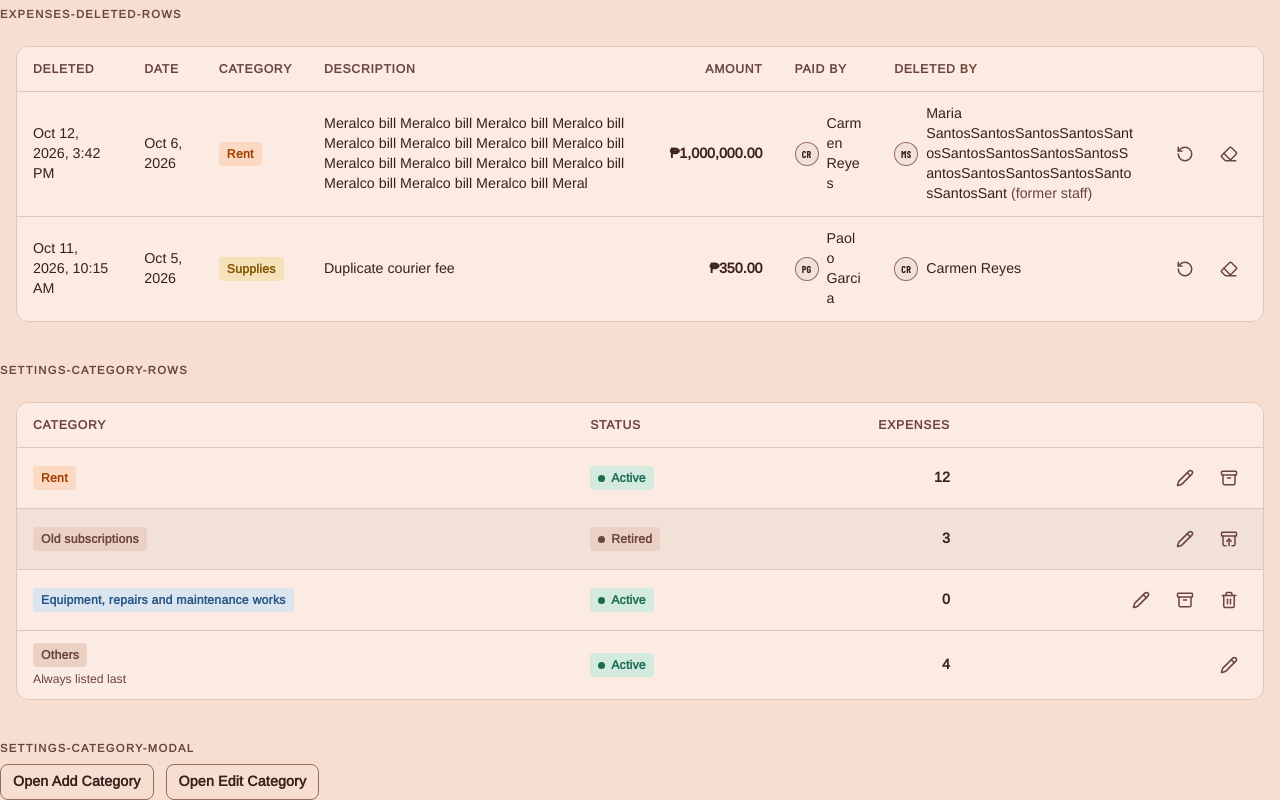
Test case: Phase6Demos: the expense modal and the delete dialogs are live › opens S2 in add mode with six color radios whose badges follow the typed name, and in edit mode with a 40-character name
(page scrolled)
Click the button "Open Add Category" at (77, 782), box [0,764,154,799]
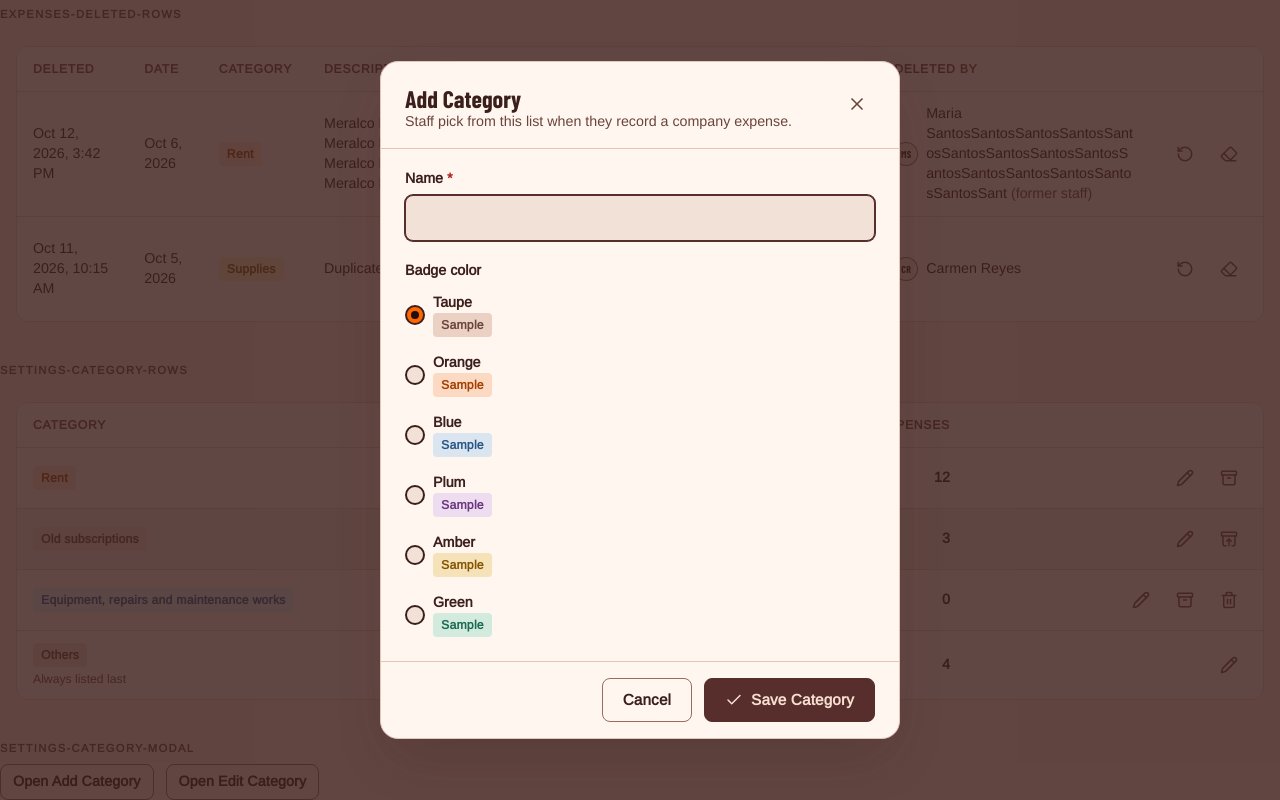
Expected: the number of radio buttons is 6, [405,305,425,325]; [405,365,425,385]; [405,425,425,445]; [405,485,425,505]; [405,545,425,565]; [405,605,425,625]
Expected: the radio button labelled "Taupe" is checked, [405,305,425,325]
Type "Courier" into the field labelled "Name *" at (640, 218), box [406,196,874,240]
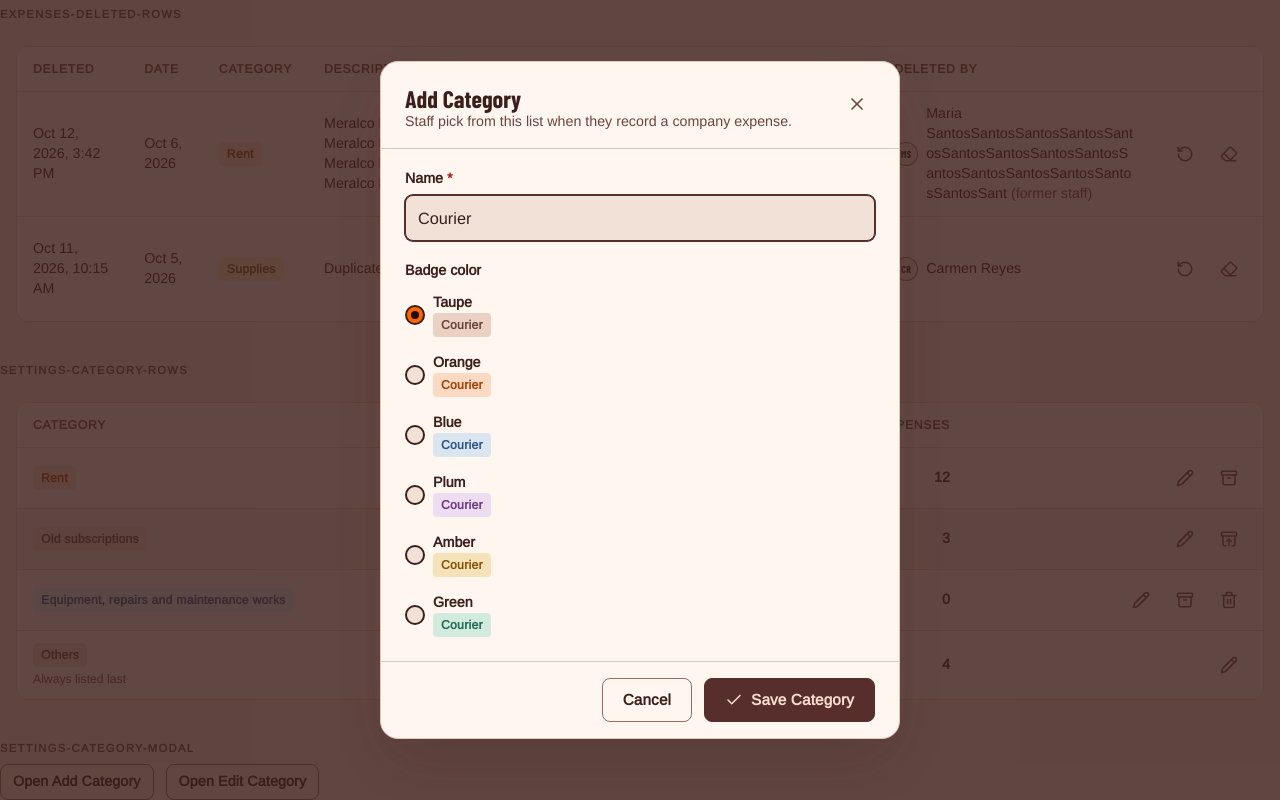
Click the button "Cancel" at (647, 700), box [602,678,692,722]
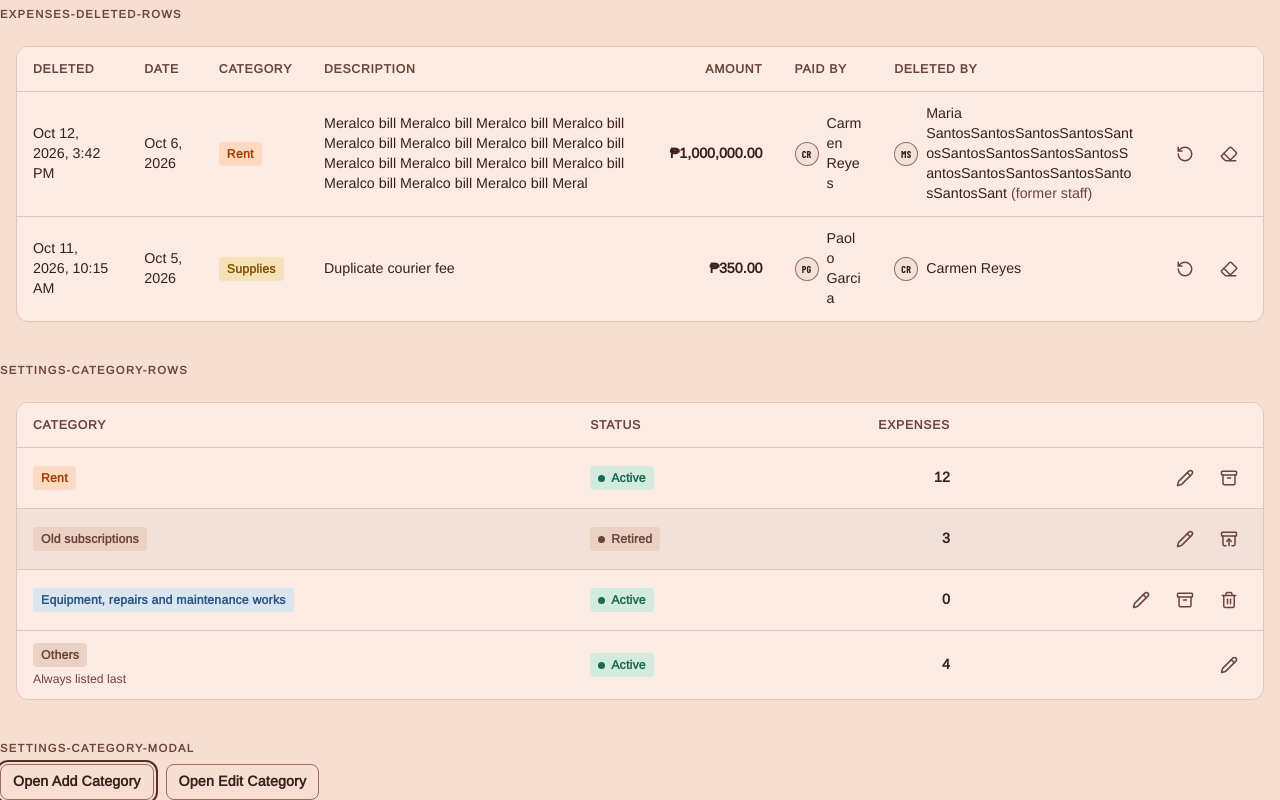
Expected: the dialog is gone
Click the button "Open Edit Category" at (242, 782), box [166,764,319,799]
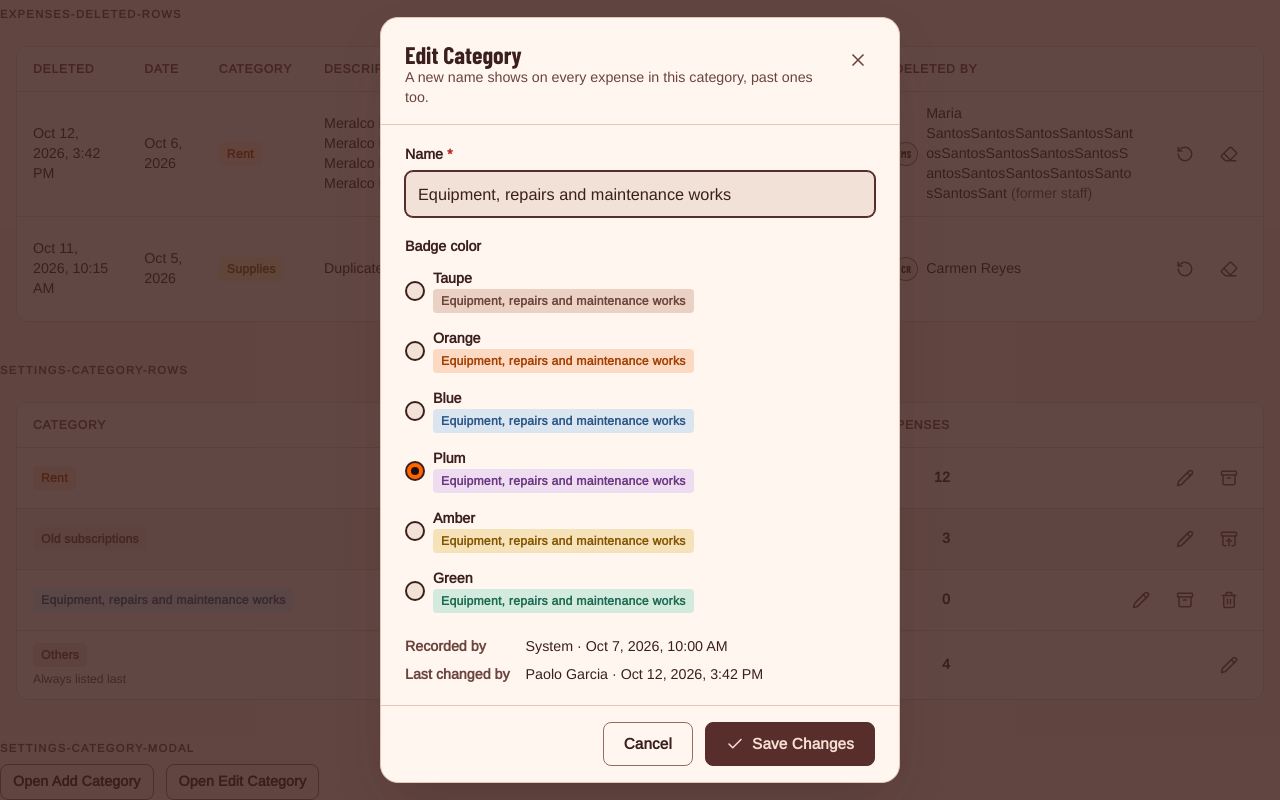
Expected: the field labelled "Name *" holds "Equipment, repairs and maintenance works", [406,172,874,216]
Expected: the radio button labelled "Plum" is checked, [405,461,425,481]
Expected: the text "Recorded by" is shown, [405,639,486,654]
